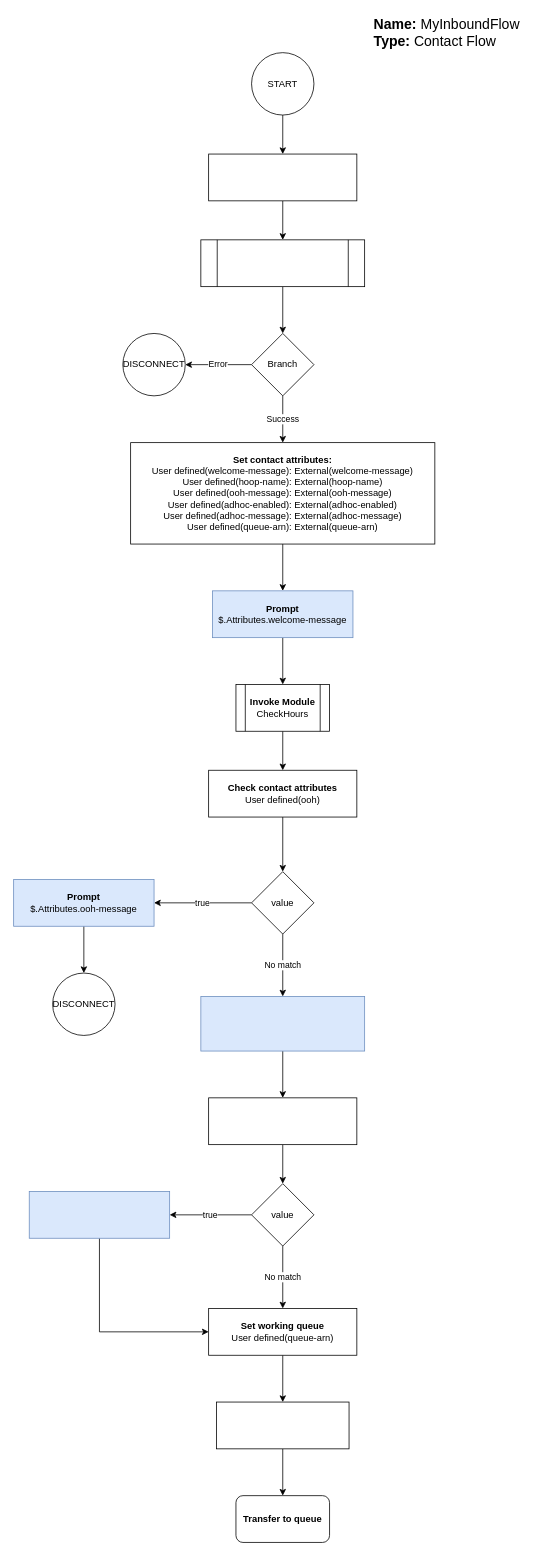
The diagram is 550 pixels wide and 1556 high, and some of its shapes have lost their labels. Each missing label, with the centre of its shape:
Check contact attributes User defined(adhoc-enabled): (x=282, y=1121)
Invoke Lambda Function MyConnectLambda: (x=282, y=263)
Prompt $.Attributes. adhoc-message: (x=99, y=1214)
Prompt Please be aware that calls are recorded for training and monitoring.: (x=282, y=1023)
Set customer queue flow MyQueueFlow: (x=282, y=1425)
Set Logging Behaviour Enabled: (x=282, y=177)
